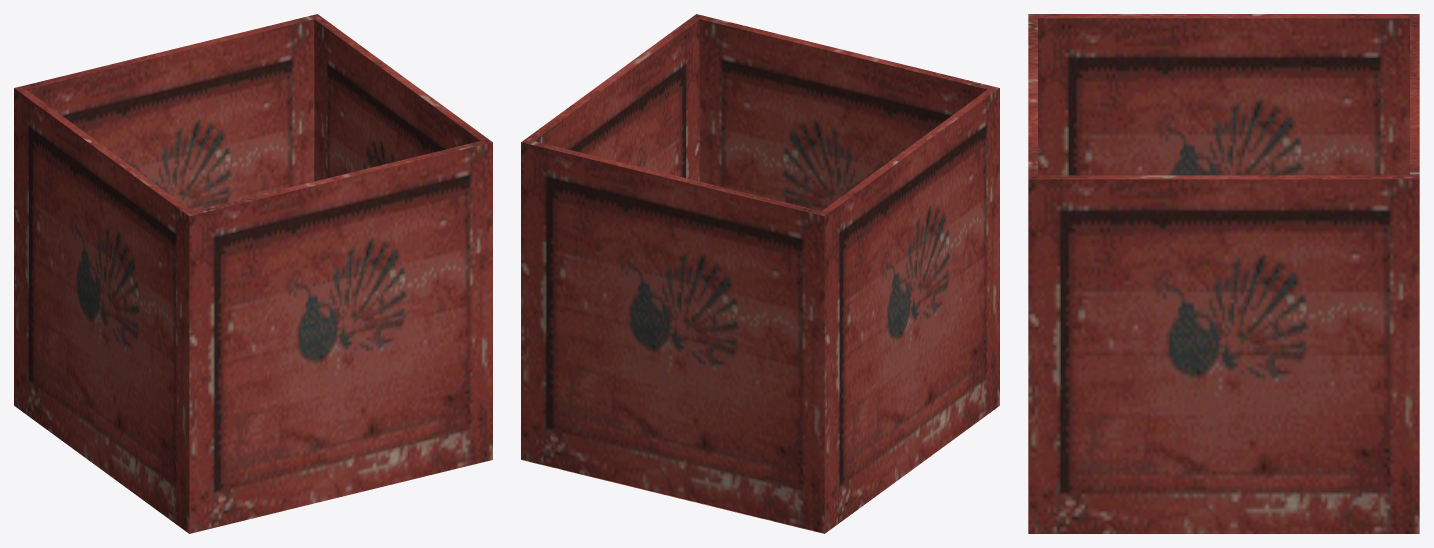
Rendered from SM_Wooden_Crate_03_Chest.fbx.
The picture shows the model from 3 angles, left to right: view 1: azimuth 30°, elevation 25°; view 2: azimuth 150°, elevation 25°; view 3: azimuth 270°, elevation 25°; orthographic projection. The views are drawn at different scales.
Visible parts, largest first — view 1: SM_Wooden_Crate_03_Chest; view 2: SM_Wooden_Crate_03_Chest; view 3: SM_Wooden_Crate_03_Chest.
Boxes of the visible parts, x1,y1,x2,y2 form: SM_Wooden_Crate_03_Chest: (14,14,492,533); SM_Wooden_Crate_03_Chest: (521,14,999,533); SM_Wooden_Crate_03_Chest: (1028,14,1419,533).
Bounding box in the file's own units: 200 × 200 × 200.
